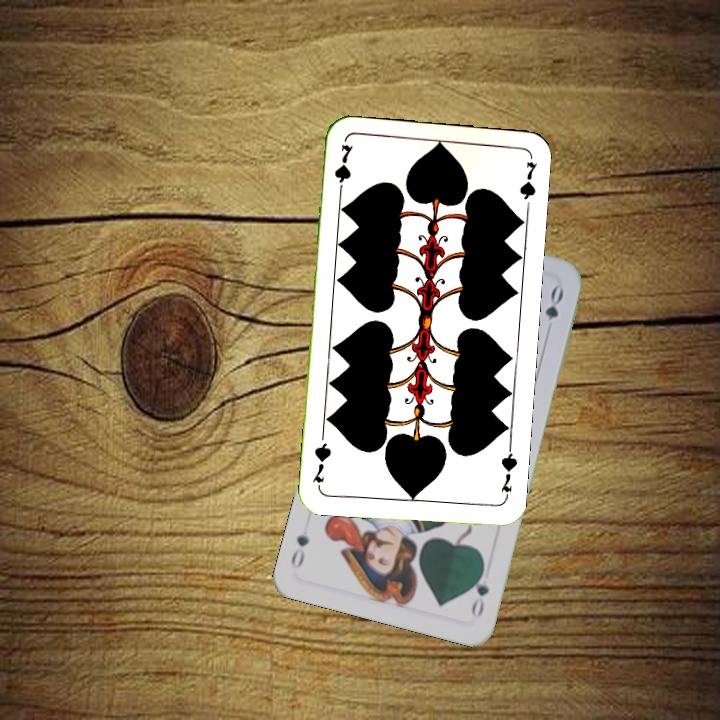G7: (331, 140, 355, 199), (496, 443, 520, 502)
GO: (467, 562, 492, 620)
